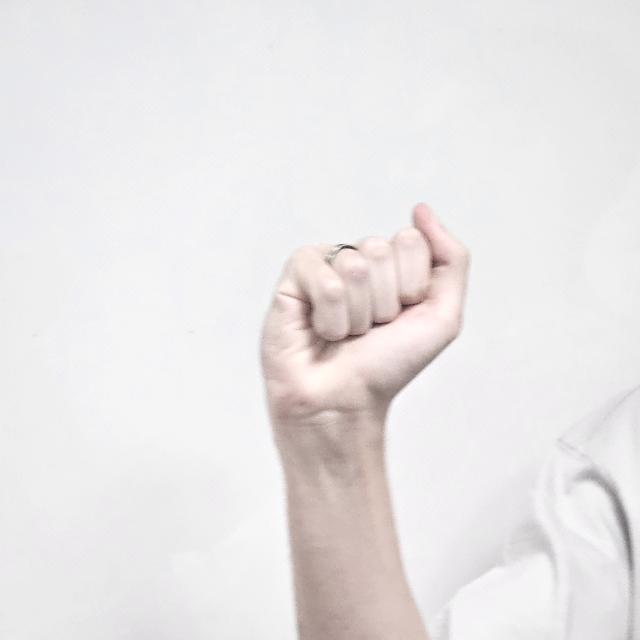Quadro: (256, 195, 472, 461)
